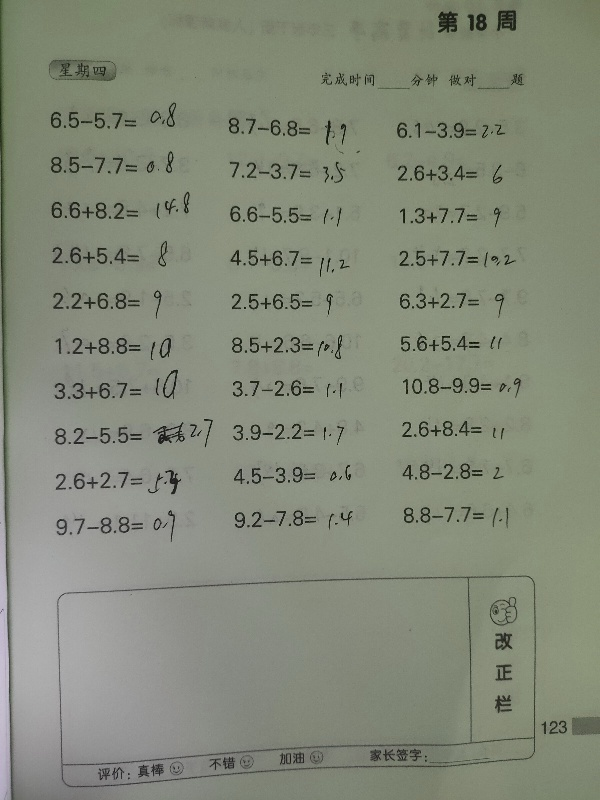equation: (212, 99, 357, 151), (215, 239, 365, 281), (47, 508, 191, 551), (47, 368, 196, 409), (219, 155, 364, 196), (52, 459, 187, 503), (41, 419, 215, 452), (224, 327, 355, 369), (391, 281, 519, 323), (44, 288, 177, 327), (44, 240, 179, 277), (47, 193, 194, 225), (229, 375, 359, 411), (395, 199, 532, 232), (395, 324, 520, 359), (45, 328, 177, 361), (46, 100, 180, 132), (227, 419, 359, 451), (221, 285, 353, 316), (392, 153, 517, 185), (46, 148, 177, 177), (230, 505, 356, 533), (399, 374, 525, 402), (399, 501, 513, 529), (229, 462, 354, 487), (225, 203, 345, 229), (395, 246, 519, 270), (392, 118, 508, 142), (398, 416, 507, 441), (399, 460, 508, 484)
